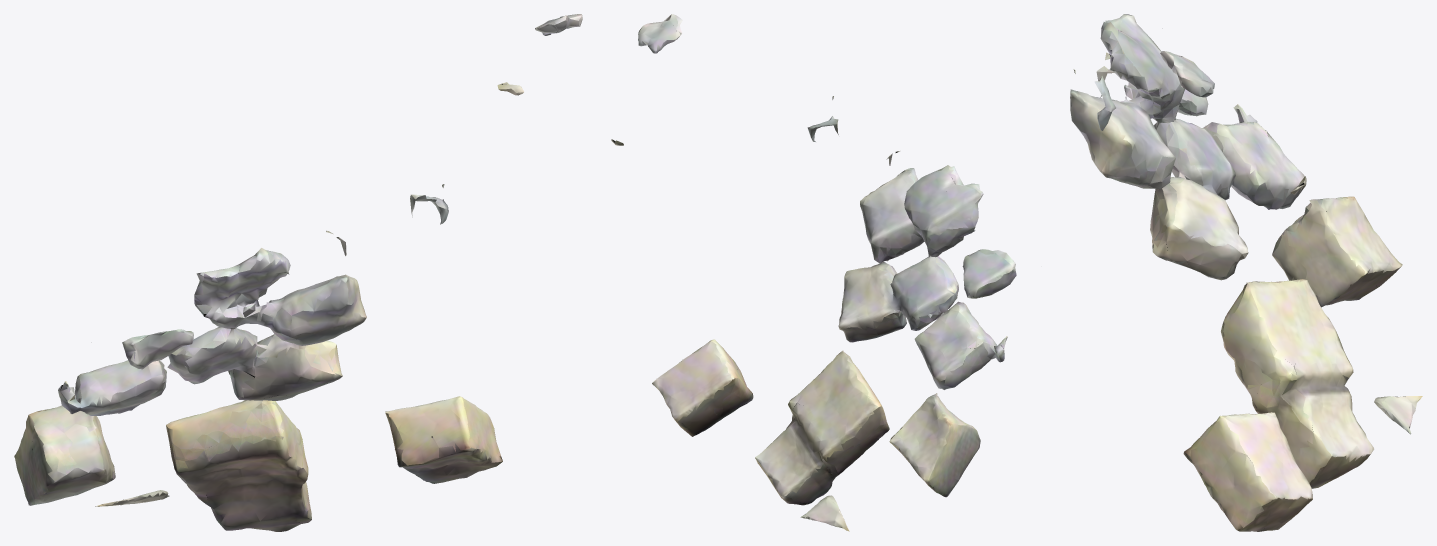
The model's file is a-stone-foundation.glb.
3 renders of one model, left to right at view 1: azimuth 30°, elevation 25°; view 2: azimuth 150°, elevation 25°; view 3: azimuth 270°, elevation 25°, orthographic. The views are drawn at different scales.
Parts seen in each view (by area): view 1: world; view 2: world; view 3: world.
Boxes of the visible parts, box(x1,y1,x2,y2) form: world: box(14, 14, 582, 531); world: box(611, 14, 1016, 531); world: box(1070, 14, 1422, 531).
Size of the model in its own units: 1.02 by 0.9927 by 0.5787.
Materials: 1 (1 with a texture image).
